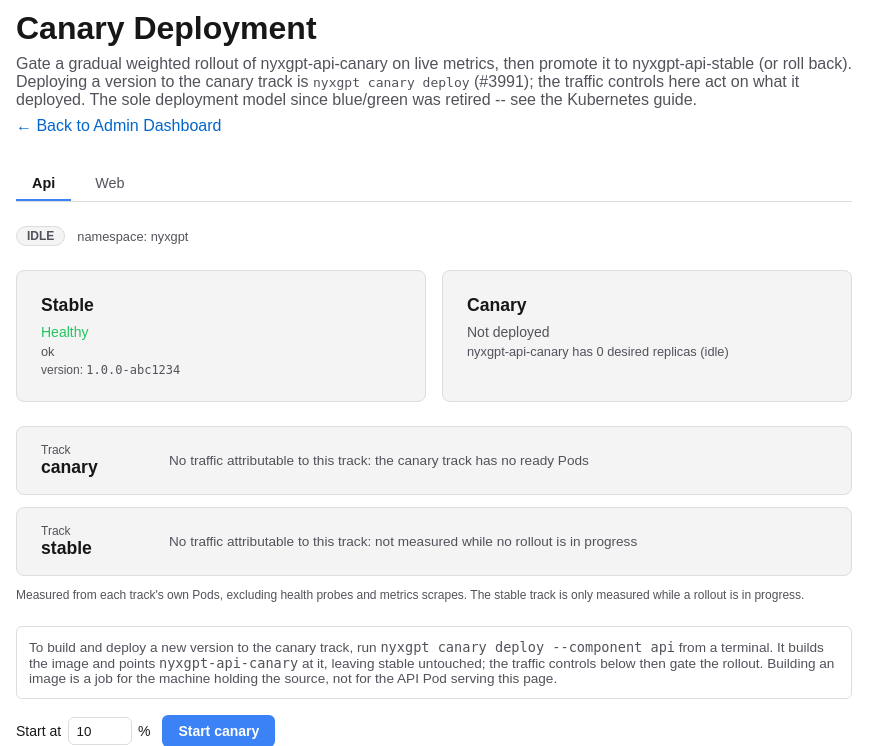
Scenario: CanaryPage › switches components via the tab bar, refetching status and re-targeting every action
Expected: the text "nyxgpt canary deploy --component api" is shown, [380,639,675,655]
Expected: the text "then promote it to nyxgpt-api-stable" is shown, [16,55,852,109]
Click the button "web" at (110, 184), box [79,167,140,201]
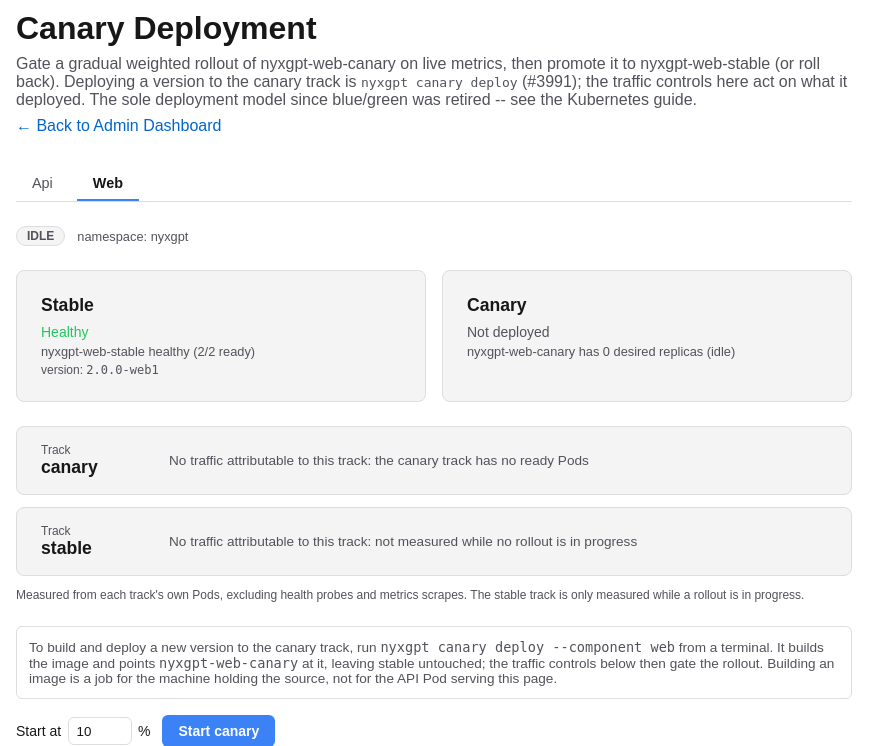
Expected: the text "nyxgpt-web-stable healthy (2/2 ready)" is shown, [41,344,255,359]
Expected: the text "then promote it to nyxgpt-web-stable" is shown, [16,55,852,109]
Expected: the text "nyxgpt canary deploy --component web" is shown, [380,639,675,655]
Click the button "api" at (42, 184), box [16,167,69,201]
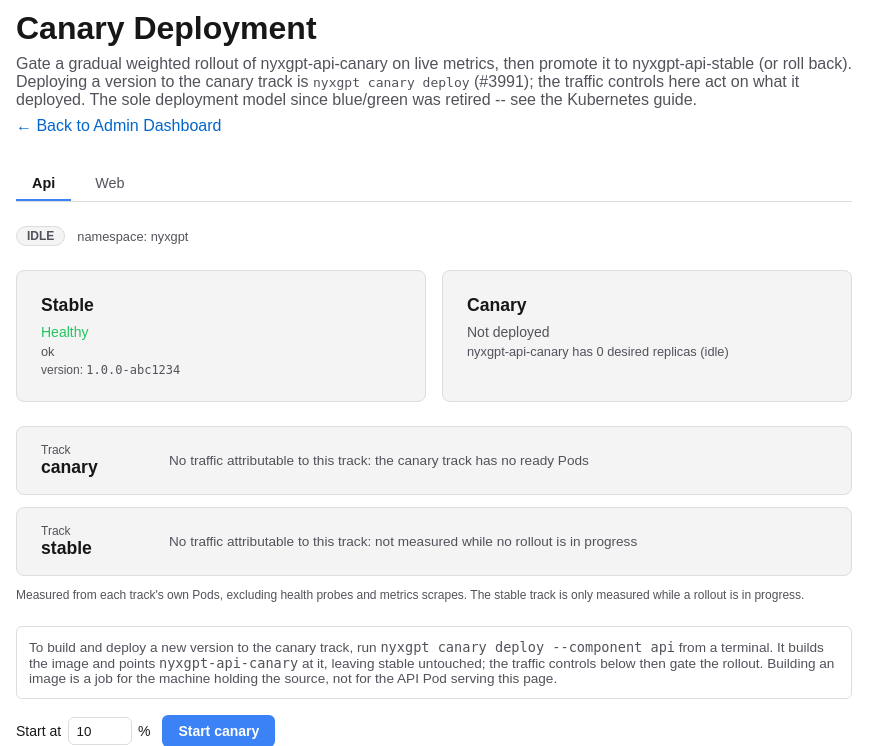
Expected: the text "nyxgpt canary deploy --component api" is shown, [380,639,675,655]
